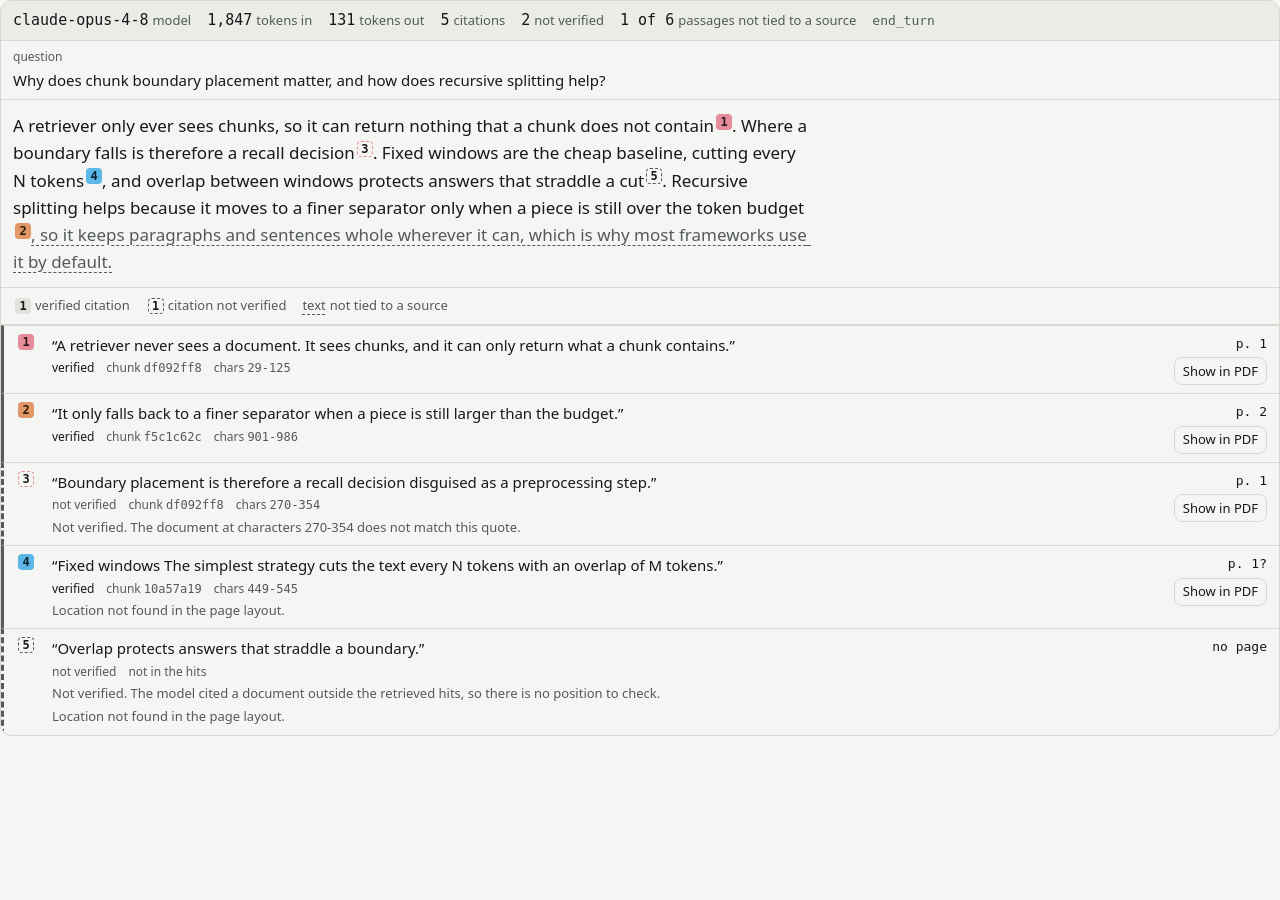
ChatInspector › falls back to the element bbox when the text is not found, and says so
Click the button "3" at coordinates (365, 149), box [357,141,373,157]
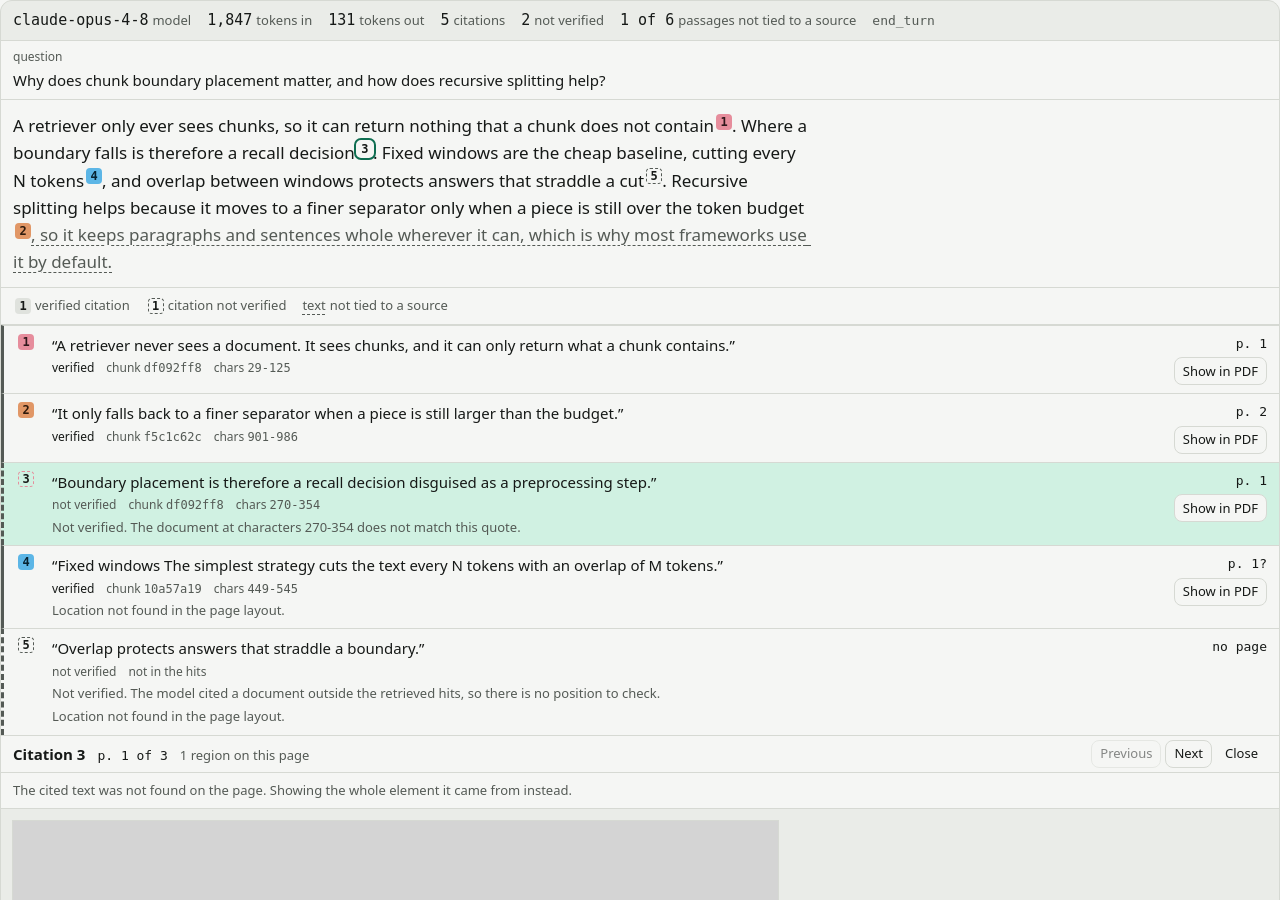
Check: the text with test id "pdf-notice" shows "Showing the whole element it came from", box [13,781,572,799]
